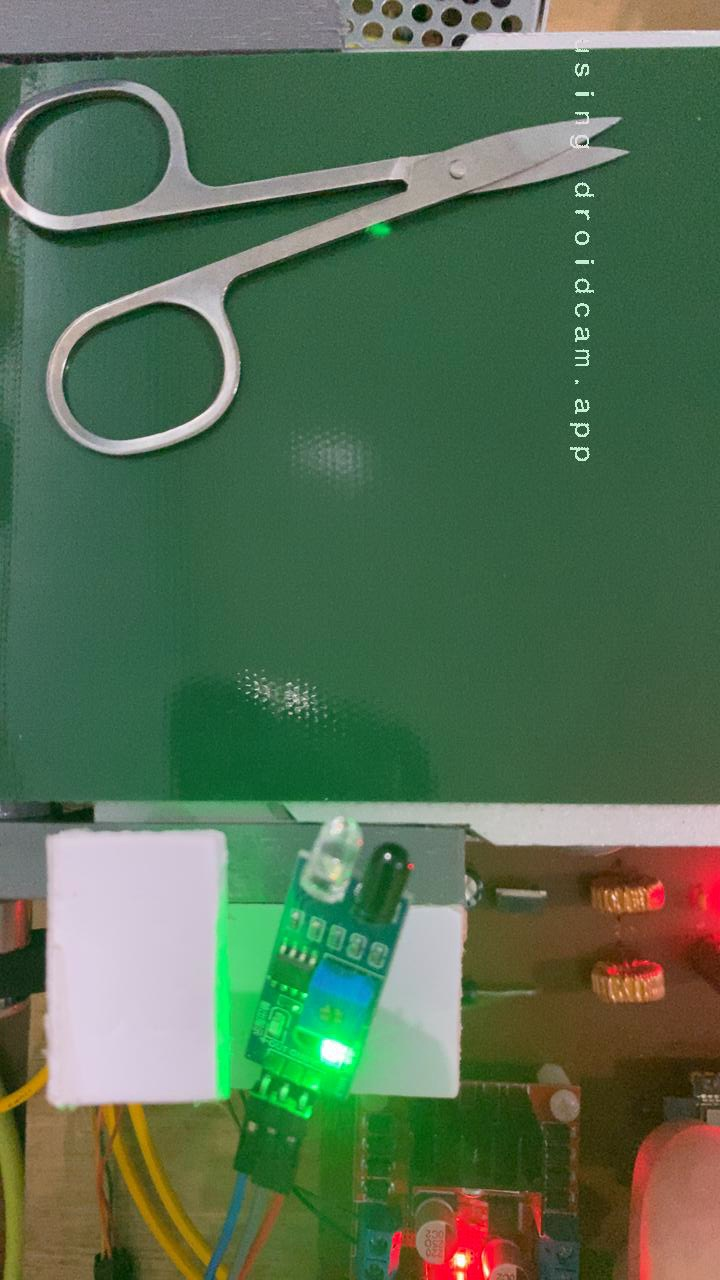scissor: (0, 74, 636, 464)
